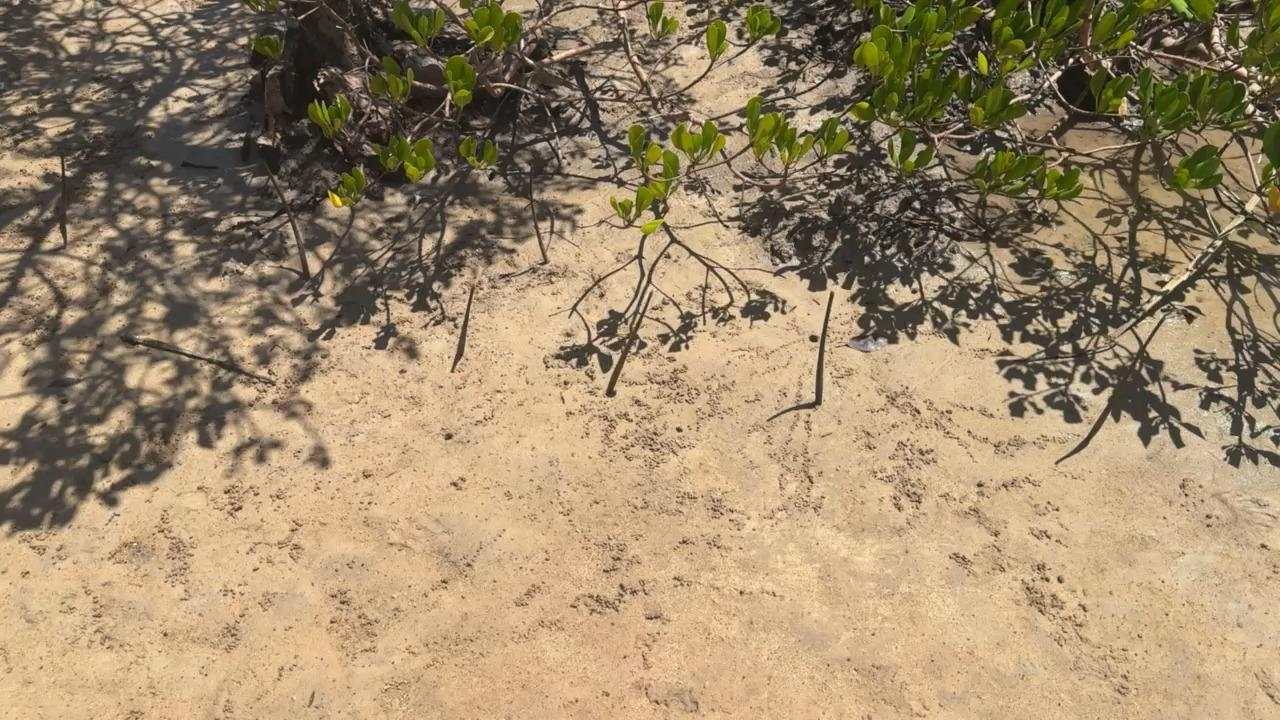Tree: (261, 156, 311, 280), (606, 290, 654, 395), (814, 290, 835, 406), (528, 163, 550, 264), (456, 284, 477, 355), (59, 145, 69, 221)
